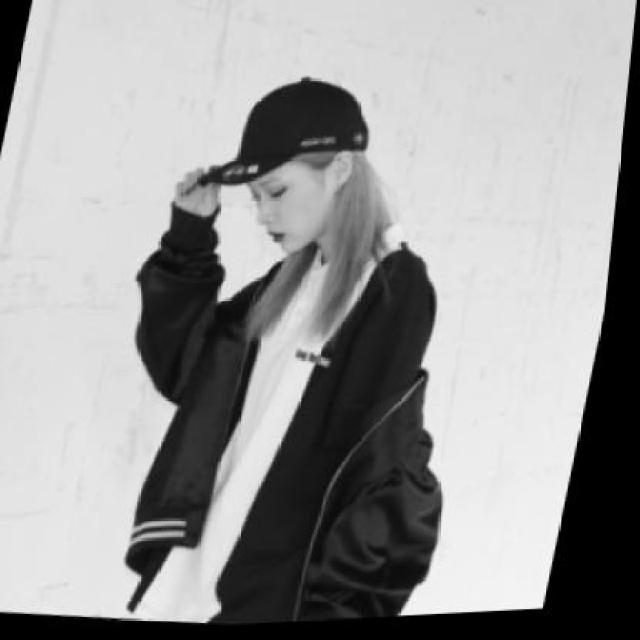hat: (200, 61, 389, 204)
